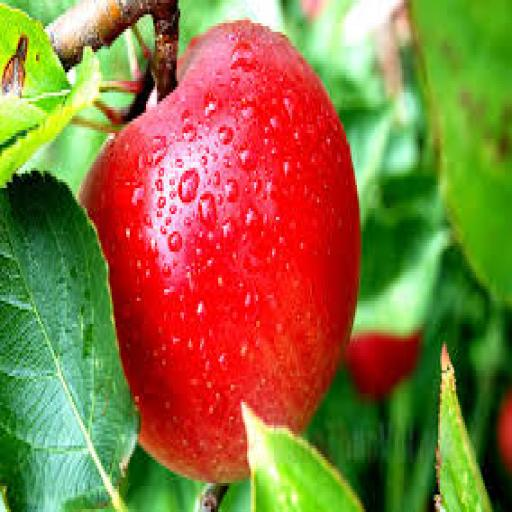apple: (82, 21, 360, 480), (345, 330, 421, 399), (498, 391, 511, 474)
